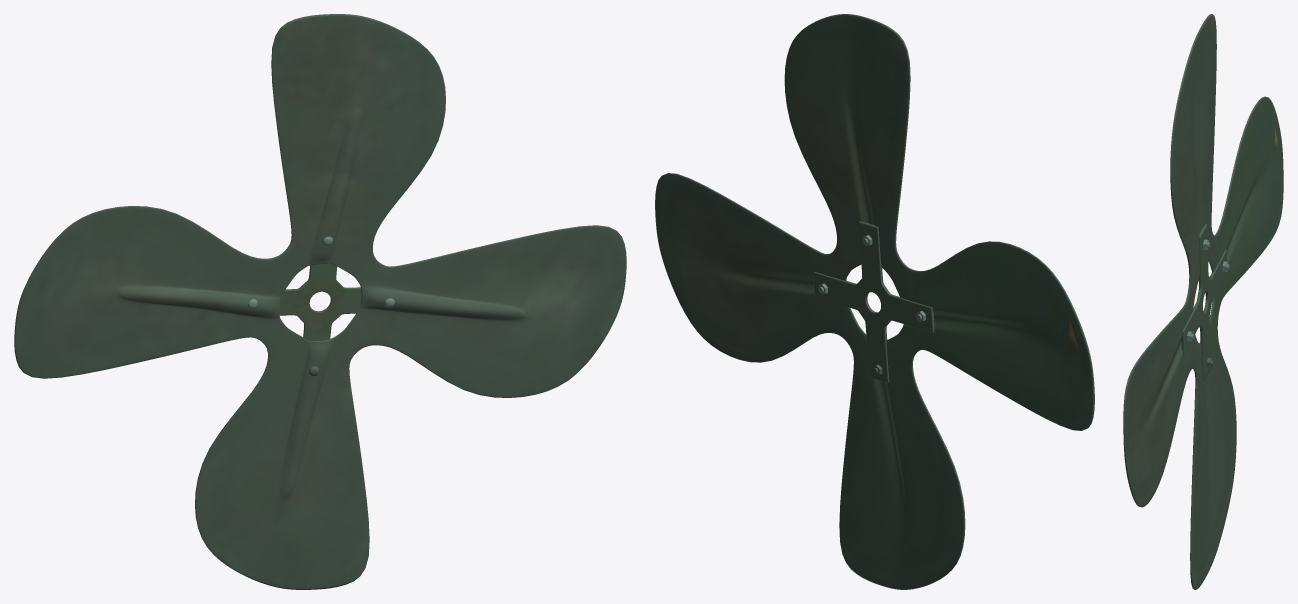
The model's file is fan.fbx.
3 views of the same model, side by side, from view 1: azimuth 30°, elevation 25°; view 2: azimuth 150°, elevation 25°; view 3: azimuth 270°, elevation 25° (orthographic). The views are drawn at different scales.
Parts seen in each view (by area): view 1: 11121SSS6890243; view 2: 11121SSS6890243; view 3: 11121SSS6890243.
Part boxes in pixels (x1,y1,x2,y2): 11121SSS6890243: [14, 14, 626, 589]; 11121SSS6890243: [655, 14, 1094, 589]; 11121SSS6890243: [1123, 14, 1283, 589].
Bounding box in the file's own units: 27.74 × 28.7 × 7.49.
